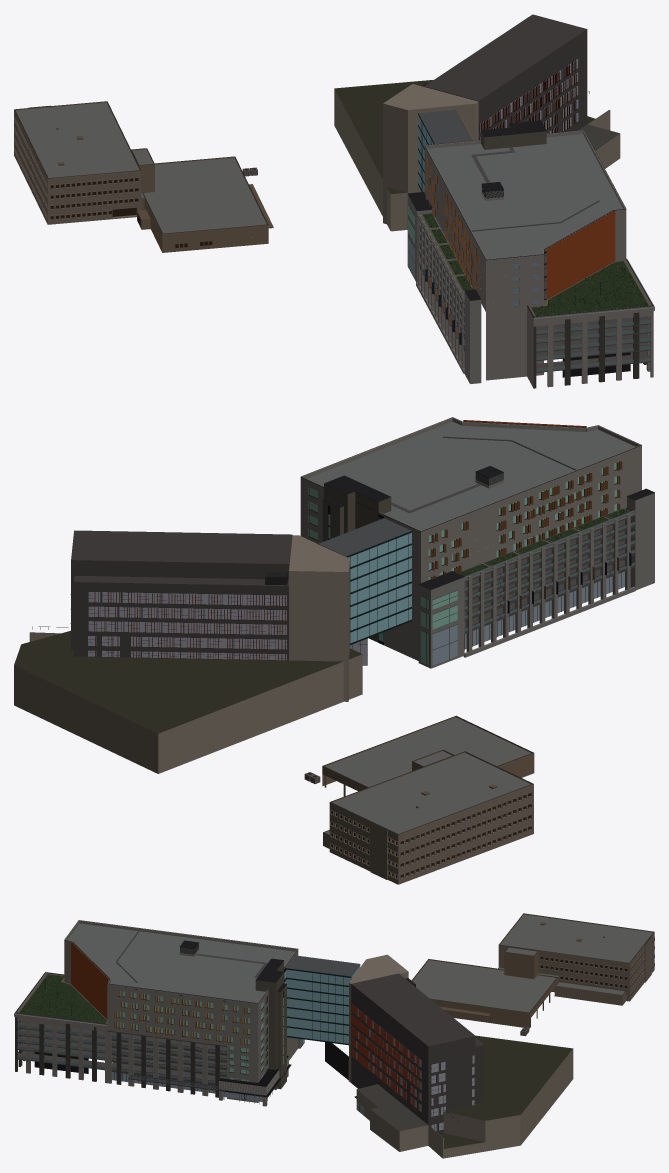
3 renders of one model, top to bottom at view 1: azimuth 30°, elevation 25°; view 2: azimuth 150°, elevation 25°; view 3: azimuth 270°, elevation 25°, orthographic. The views are drawn at different scales.
Visible parts, largest first — view 1: opaque, glass; view 2: opaque, glass; view 3: opaque, glass.
Boxes of the visible parts, <box> form: opaque: <box>14,14,654,388</box>; glass: <box>50,59,611,298</box>; opaque: <box>14,417,654,884</box>; glass: <box>88,461,624,878</box>; opaque: <box>14,913,654,1158</box>; glass: <box>73,943,627,1131</box>.
Bounding box in the file's own units: 188 × 46.13 × 246.
Materials: 2 (2 with a texture image).
